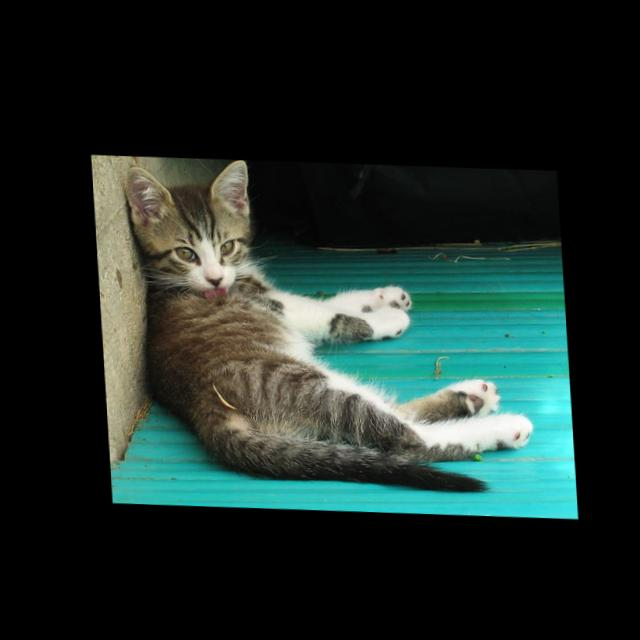animals: (129, 154, 250, 285)
